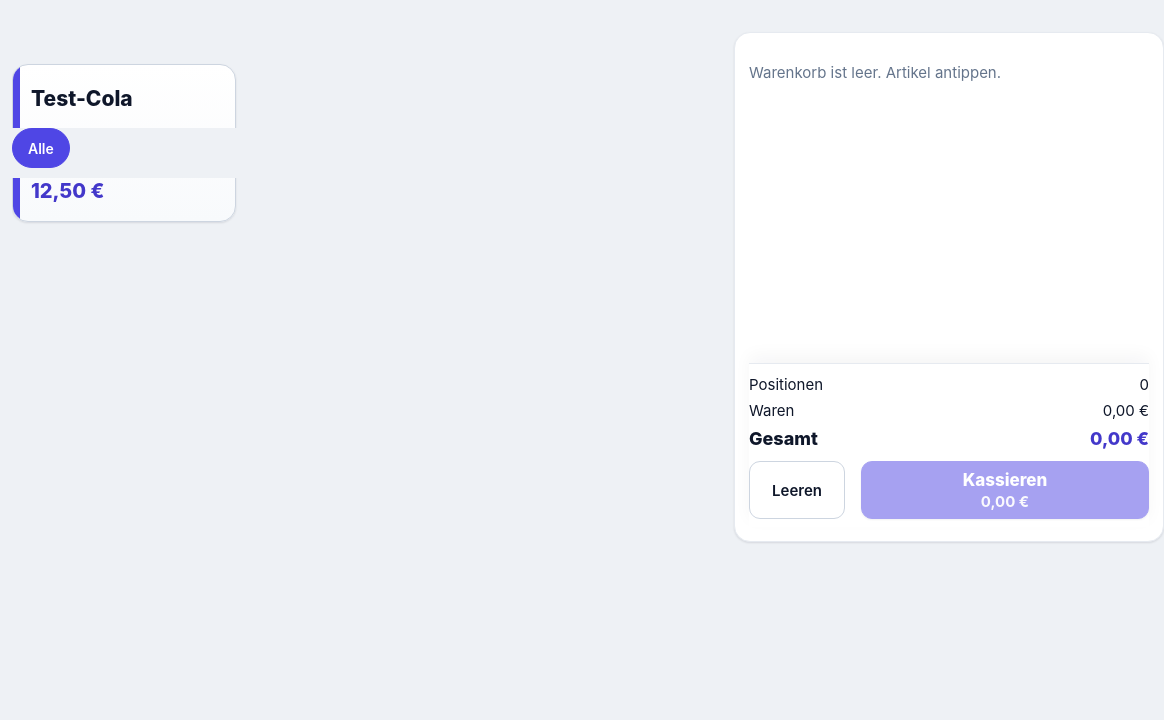
it: Verkauf Component › sollte den Kassieren-Button aktivieren, wenn ein Artikel hinzugefügt wird
Click the text "Test-Cola": (82,98) [31,86,133,111]
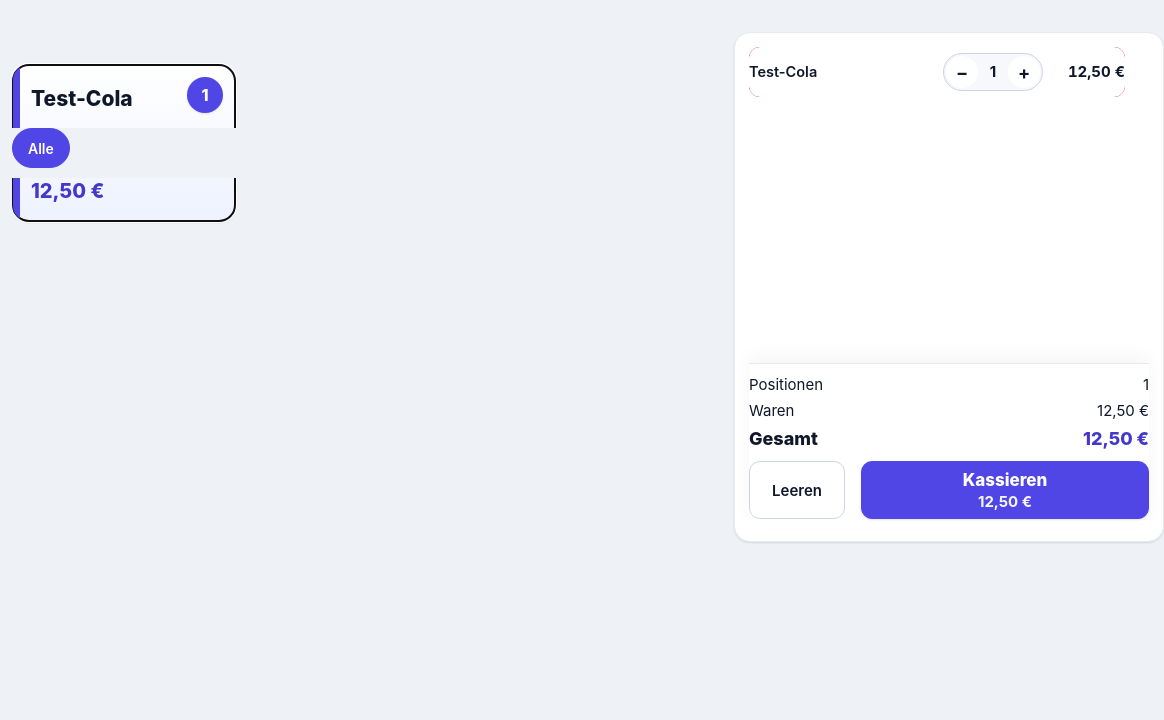
Now the button "Kassieren 12,50 €" is shown, box [861,461,1149,519]
Now the button "Kassieren 12,50 €" is enabled, box [861,461,1149,519]
